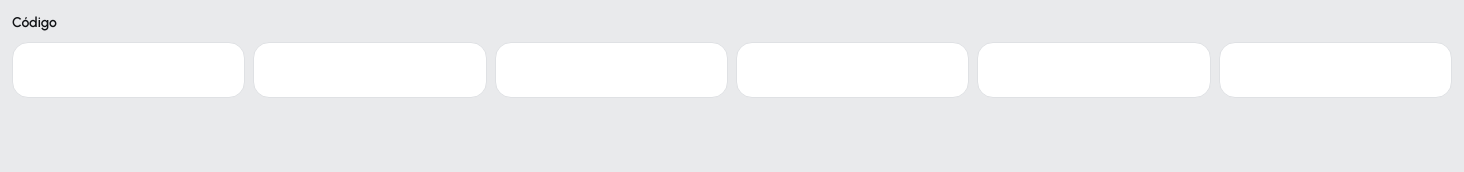
Test: CodeInput › moves to the next box while typing and ignores non digits
In the field named "Dígito 1 de 6": (129, 70) [12,42,245,98], type "12a3456"
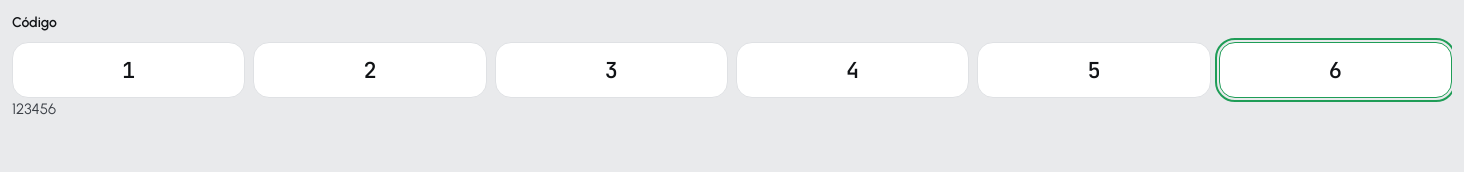
expect the text "123456" is shown: met, box [12,100,56,118]
